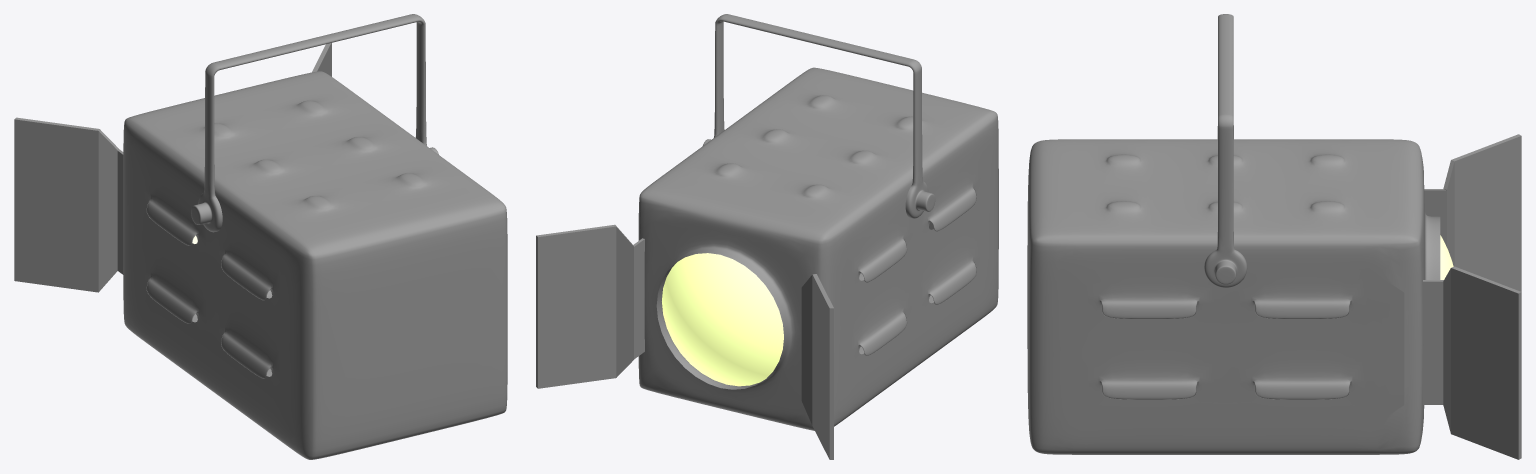
Rendered from spotlight2.fbx.
3 renders of one model, left to right at view 1: azimuth 30°, elevation 25°; view 2: azimuth 150°, elevation 25°; view 3: azimuth 270°, elevation 25°, orthographic. The views are drawn at different scales.
Parts seen in each view (by area): view 1: reflector, ear_r, handle, earsupportr; view 2: reflector, ear_l, reflector_lamp, ear_r, handle, earsupportl; view 3: reflector, ear_l, ear_r, handle, earsupportl, earsupportr.
Part boxes in pixels (x1=…): reflector: x1=123, y1=71, x2=507, y2=459; ear_r: x1=14, y1=117, x2=118, y2=292; handle: x1=191, y1=14, x2=438, y2=232; earsupportr: x1=117, y1=149, x2=123, y2=274; reflector: x1=638, y1=67, x2=998, y2=430; ear_l: x1=536, y1=224, x2=633, y2=388; reflector_lamp: x1=662, y1=253, x2=783, y2=386; ear_r: x1=801, y1=274, x2=833, y2=459; handle: x1=703, y1=14, x2=935, y2=218; earsupportl: x1=633, y1=238, x2=644, y2=359; reflector: x1=1027, y1=139, x2=1440, y2=454; ear_l: x1=1443, y1=266, x2=1521, y2=459; ear_r: x1=1443, y1=134, x2=1521, y2=291; handle: x1=1204, y1=14, x2=1247, y2=287; earsupportl: x1=1423, y1=280, x2=1443, y2=404; earsupportr: x1=1424, y1=189, x2=1446, y2=246.
Size of the model in its own units: 3.08 by 3.14 by 4.03.
